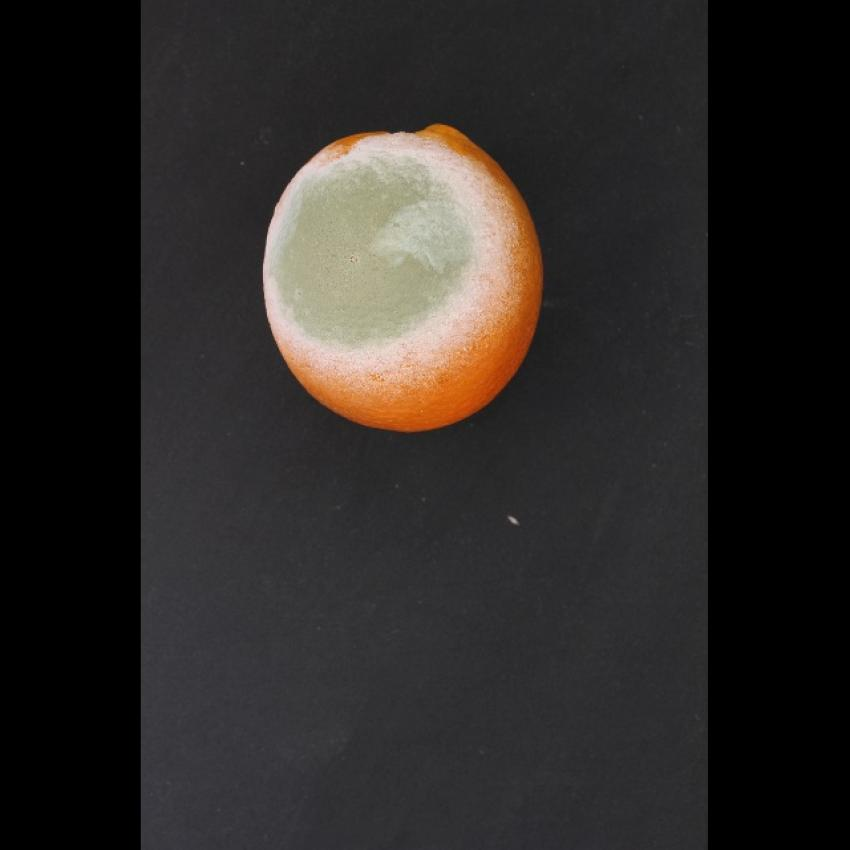Mal estado: (257, 111, 547, 443)
